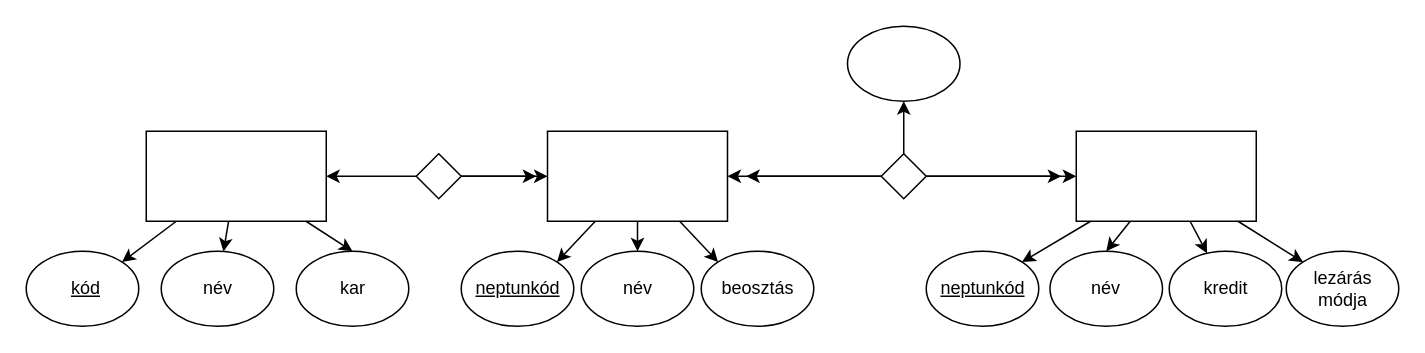
Image size: 1425x353. Some labels were removed from this diagram. Each missing label, with the centre of its shape:
"félév" belongs at (903,63).
"Oktató" belongs at (637,175).
"Tanszék" belongs at (235,175).
"Tantárgy" belongs at (1165,175).
